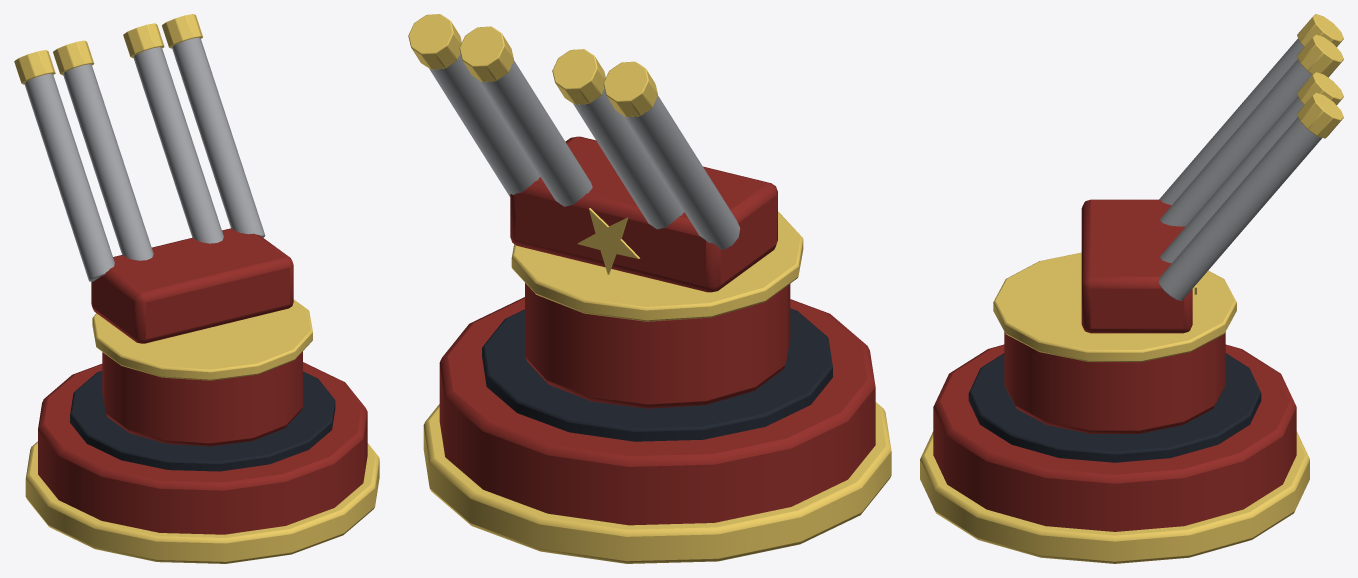
The model's file is baeren_turret_air.glb.
The picture shows the model from 3 angles, left to right: view 1: azimuth 30°, elevation 25°; view 2: azimuth 150°, elevation 25°; view 3: azimuth 270°, elevation 25°; orthographic projection. The views are drawn at different scales.
Parts seen in each view (by area): view 1: base, cradle, mount, base_ring, mount_ring, base_top, barrel_-1_1, barrel_1_1, barrel_-1_0, barrel_1_0, cap_-1_1, cap_1_0 (+2 smaller); view 2: base, mount, base_ring, cradle, base_top, mount_ring, barrel_-1_1, barrel_1_0, barrel_1_1, barrel_-1_0, cap_1_0, cap_-1_1 (+3 smaller); view 3: base, mount, base_ring, mount_ring, cradle, base_top, barrel_1_1, barrel_-1_0, barrel_-1_1, barrel_1_0, cap_1_1, cap_-1_0 (+2 smaller).
Boxes of the visible parts, box(x1,y1,x2,y2) form: base: box(38, 362, 367, 534); cradle: box(91, 228, 293, 343); mount: box(102, 351, 302, 446); base_ring: box(25, 441, 379, 563); mount_ring: box(92, 299, 312, 380); base_top: box(70, 371, 335, 471); barrel_-1_1: box(24, 73, 114, 281); barrel_1_1: box(172, 37, 265, 237); barrel_-1_0: box(63, 64, 153, 260); barrel_1_0: box(133, 47, 223, 243); cap_-1_1: box(14, 50, 55, 84); cap_1_0: box(123, 23, 164, 57); base: box(439, 297, 875, 525); mount: box(525, 283, 790, 408); base_ring: box(423, 402, 891, 563); cradle: box(510, 136, 777, 292); base_top: box(482, 308, 832, 441); mount_ring: box(511, 211, 803, 321); barrel_-1_1: box(624, 96, 740, 249); barrel_1_0: box(480, 60, 592, 206); barrel_1_1: box(429, 54, 540, 196); barrel_-1_0: box(573, 89, 684, 229); cap_1_0: box(459, 26, 513, 81); cap_-1_1: box(603, 61, 657, 117); base: box(933, 344, 1296, 531); mount: box(1004, 332, 1225, 433); base_ring: box(920, 431, 1309, 563); mount_ring: box(993, 252, 1236, 361); cradle: box(1081, 199, 1192, 333); base_top: box(968, 353, 1261, 462); barrel_1_1: box(1158, 117, 1321, 300); barrel_-1_0: box(1160, 59, 1311, 226); barrel_-1_1: box(1159, 38, 1303, 205); barrel_1_0: box(1160, 96, 1303, 263); cap_1_1: box(1297, 92, 1343, 138); cap_-1_0: box(1297, 34, 1343, 77).
Bounding box in the file's own units: 1.76 × 2.16 × 1.91.
